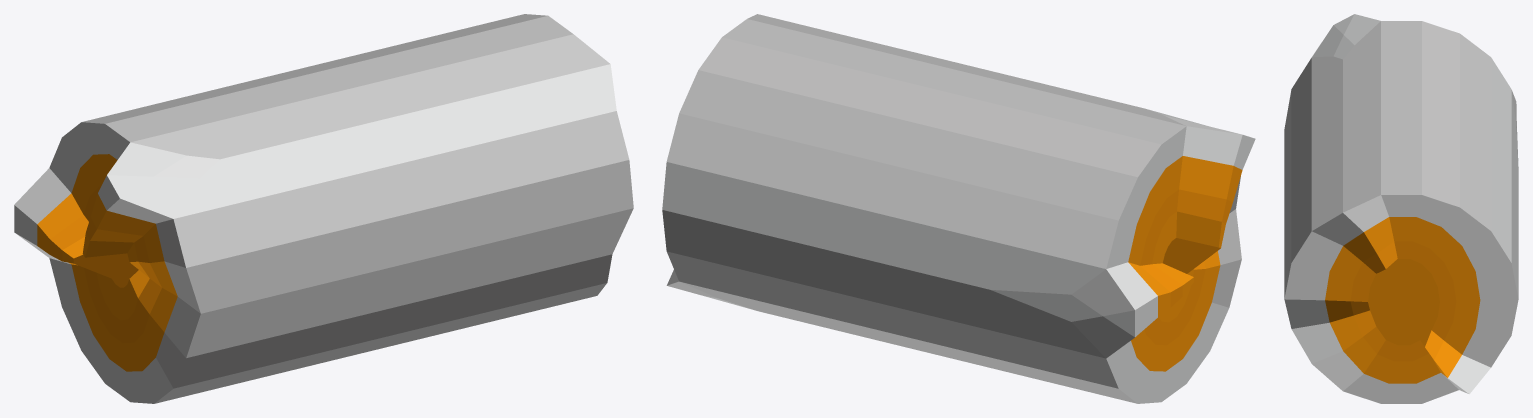
Rendered from Broken log_11.fbx.
3 renders of one model, left to right at view 1: azimuth 30°, elevation 25°; view 2: azimuth 150°, elevation 25°; view 3: azimuth 270°, elevation 25°, orthographic. The views are drawn at different scales.
Visible parts, largest first — view 1: Circle.214; view 2: Circle.214; view 3: Circle.214.
Boxes of the visible parts, <box> form: Circle.214: <box>14,14,633,403</box>; Circle.214: <box>662,14,1255,403</box>; Circle.214: <box>1284,14,1518,403</box>.
Size of the model in its own units: 51.66 by 25.19 by 25.57.
